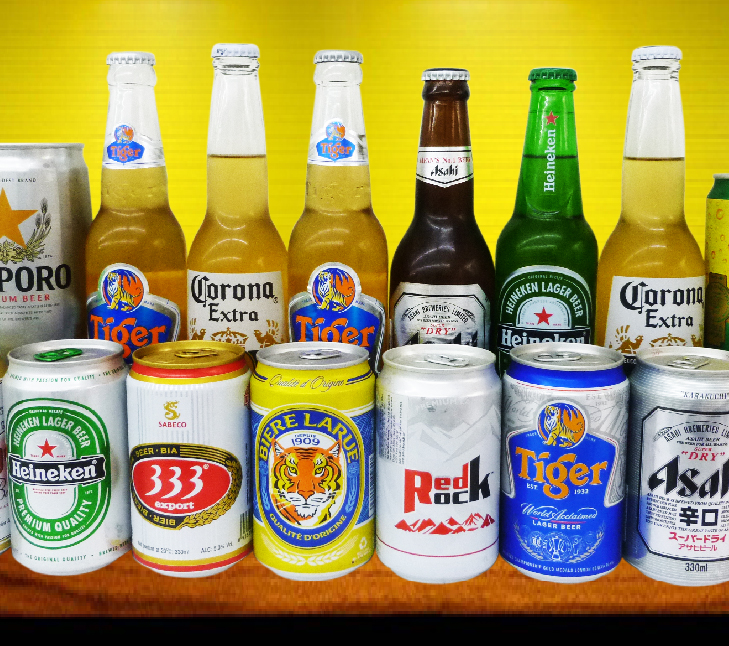333: (144, 461, 203, 499)
bierelarue: (259, 407, 360, 547)
coronaextra: (191, 273, 276, 306), (619, 280, 703, 312)
heineken: (11, 458, 96, 484)
redrock: (404, 454, 492, 513)
tiger: (515, 445, 608, 499), (293, 312, 374, 346), (88, 308, 166, 341)
